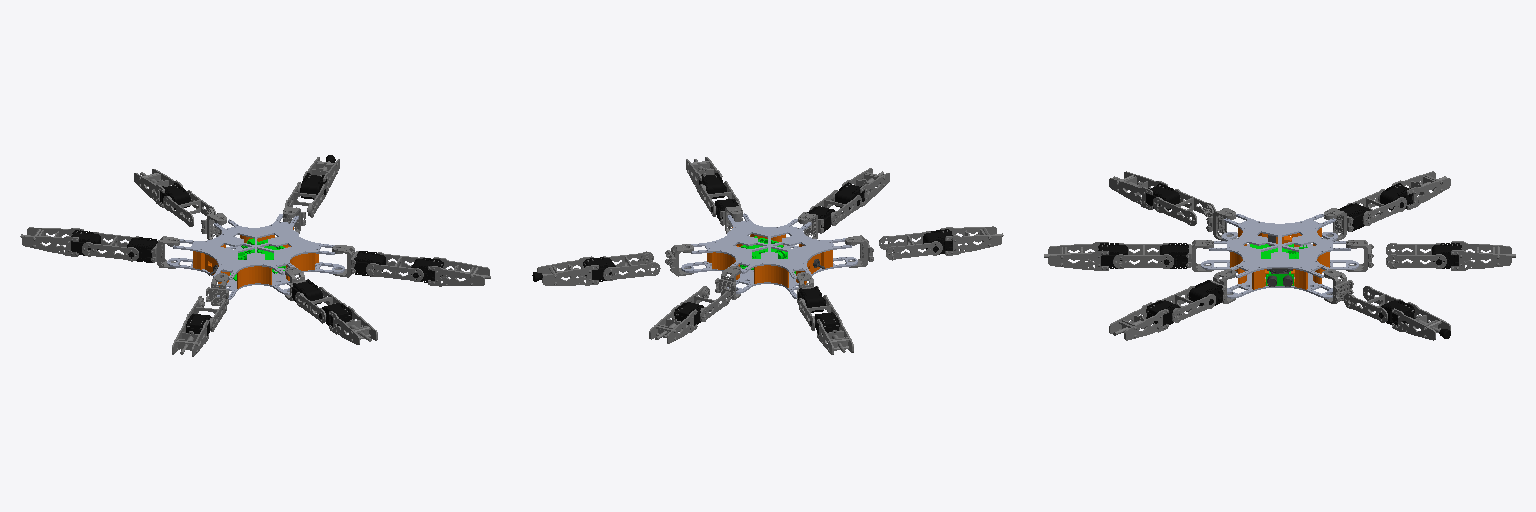
--- What the picture shows (computed from the rendered views, not written in the file) ---
Views: 3 orthographic renders of the robot side by side, from view 1: azimuth 30°, elevation 25°; view 2: azimuth 150°, elevation 25°; view 3: azimuth 270°, elevation 25°.
Robot: bullet — 41 links, 40 joints (18 continuous, 22 fixed); root link base_link; default pose: all joints at 0.
Visible links, largest first — view 1: base_link, plug_link, leg_1_absorber_link, leg_4_absorber_link, leg_1_arm_link, leg_4_arm_link, leg_2_absorber_link, leg_5_absorber_link, leg_5_arm_link, leg_3_absorber_link, leg_2_arm_link, leg_6_arm_link (+2 smaller); view 2: base_link, plug_link, leg_6_absorber_link, leg_3_absorber_link, leg_3_arm_link, leg_6_arm_link, leg_5_absorber_link, leg_2_absorber_link, leg_4_absorber_link, leg_5_arm_link, leg_2_arm_link, leg_1_absorber_link (+1 smaller); view 3: base_link, leg_5_absorber_link, leg_2_absorber_link, plug_link, leg_1_absorber_link, leg_5_arm_link, leg_6_absorber_link, leg_2_arm_link, leg_3_arm_link, leg_4_absorber_link, leg_3_absorber_link, leg_6_arm_link (+7 smaller).
Link boxes in pixels (x1,y1,x2,y2): base_link: (167, 214, 344, 299); plug_link: (193, 227, 318, 288); leg_1_absorber_link: (428, 257, 490, 286); leg_4_absorber_link: (20, 227, 83, 256); leg_1_arm_link: (366, 252, 425, 281); leg_4_arm_link: (82, 232, 138, 261); leg_2_absorber_link: (329, 306, 377, 344); leg_5_absorber_link: (134, 169, 182, 207); leg_5_arm_link: (163, 190, 215, 226); leg_3_absorber_link: (172, 318, 208, 356); leg_2_arm_link: (295, 287, 346, 323); leg_6_arm_link: (285, 182, 326, 217); base_link: (681, 213, 857, 298); plug_link: (707, 227, 832, 287); leg_6_absorber_link: (537, 256, 598, 285); leg_3_absorber_link: (940, 226, 1003, 255); leg_3_arm_link: (879, 231, 942, 260); leg_6_arm_link: (601, 251, 660, 280); leg_5_absorber_link: (649, 305, 697, 343); leg_2_absorber_link: (842, 168, 889, 206); leg_4_absorber_link: (817, 317, 853, 354); leg_5_arm_link: (679, 286, 730, 321); leg_2_arm_link: (809, 190, 861, 225); leg_1_absorber_link: (686, 157, 722, 194); base_link: (1201, 214, 1358, 298); leg_5_absorber_link: (1451, 241, 1515, 270); leg_2_absorber_link: (1044, 242, 1108, 270); plug_link: (1230, 228, 1329, 289); leg_1_absorber_link: (1109, 302, 1168, 340); leg_5_arm_link: (1386, 243, 1446, 268); leg_6_absorber_link: (1392, 302, 1450, 340); leg_2_arm_link: (1113, 243, 1173, 268); leg_3_arm_link: (1153, 189, 1215, 225); leg_4_absorber_link: (1392, 171, 1450, 209); leg_3_absorber_link: (1109, 171, 1167, 209); leg_6_arm_link: (1344, 286, 1403, 322).
Bounding box of the posed robot: 0.6257 × 0.7744 × 0.0501 m (x, y, z).
Meshes: 41 distinct files referenced, 32 mesh visuals loaded (32 binary STL); not drawn: 9 (reference not matched to a file when rendering).

robot.urdf — bullet:
<?xml version="1.0" ?>
<robot
  name="bullet">
  <!-- ros_control plugin -->
  <gazebo>
    <plugin name="gazebo_ros_control" filename="libgazebo_ros_control.so">
      <robotNamespace>/bullet</robotNamespace>
      <robotSimType>gazebo_ros_control/DefaultRobotHWSim</robotSimType>
    </plugin>
  </gazebo>


  <link
    name="base_link">
    <inertial>
      <origin
        xyz="-5.9635796939439E-05 3.74625273918532E-05 0.0220737857529309"
        rpy="0 0 0" />
      <mass
        value="0.26667112057784" />
      <inertia
        ixx="0.000748339276654686"
        ixy="8.68074449070377E-08"
        ixz="-1.81712739650435E-07"
        iyy="0.000981744929643055"
        iyz="1.14149870318711E-07"
        izz="0.00158602359934563" />
    </inertial>
    <visual>
      <origin
        xyz="0 0 0"
        rpy="0 0 0" />
      <geometry>
        <mesh
          filename="package://bullet_description/meshes/base_link.STL" />
      </geometry>
      <material
        name="">
        <color
          rgba="0.666666666666667 0.694117647058824 0.764705882352941 1" />
      </material>
    </visual>
    <collision>
      <origin
        xyz="0 0 0.015"
        rpy="0 0 0" />
      <geometry>
        <box size="0.25 0.2 0.04"/>
      </geometry>
    </collision>
  </link>


  <link
    name="plug_link">
    <inertial>
      <origin
        xyz="-0.0056089 0.0011051 0.016059"
        rpy="0 0 0" />
      <mass
        value="0.11991" />
      <inertia
        ixx="0.00028126"
        ixy="-9.098E-06"
        ixz="4.5305E-07"
        iyy="0.00058035"
        iyz="-5.2933E-09"
        izz="0.00084063" />
    </inertial>
    <visual>
      <origin
        xyz="0 0 0"
        rpy="0 0 0" />
      <geometry>
        <mesh
          filename="package://bullet_description/meshes/plug_link.STL" />
      </geometry>
      <material
        name="">
        <color
          rgba="0.9098 0.44314 0.031373 1" />
      </material>
    </visual>
   <!-- <collision>
      <origin
        xyz="0 0 0"
        rpy="0 0 0" />
      <geometry>
        <mesh
          filename="package://bullet_description/meshes/plug_link.STL" />
      </geometry>
    </collision> -->
  </link>
  <joint
    name="plug_joint"
    type="fixed">
    <origin
      xyz="0 0 0"
      rpy="8.79440476813292E-33 0 0" />
    <parent
      link="base_link" />
    <child
      link="plug_link" />
    <axis
      xyz="0 0 0" />
  </joint>


  <link
    name="servo_link">
    <inertial>
      <origin
        xyz="-8.8541E-05 5.5621E-05 0.016229"
        rpy="0 0 0" />
      <mass
        value="0.25106" />
      <inertia
        ixx="0.0019045"
        ixy="-1.2566E-07"
        ixz="-9.6563E-20"
        iyy="0.0018893"
        iyz="-2.2515E-19"
        izz="0.0037433" />
    </inertial>
    <visual>
      <origin
        xyz="0 0 0"
        rpy="0 0 0" />
      <geometry>
        <mesh
          filename="package://bullet_description/meshes/servo_link.STL" />
      </geometry>
      <material
        name="">
        <color
          rgba="0.1 0.1 0.1 1" />
      </material>
    </visual>
  <!--  <collision>
      <origin
        xyz="0 0 0"
        rpy="0 0 0" />
      <geometry>
        <mesh
          filename="package://bullet_description/meshes/servo_link.STL" />
      </geometry>
    </collision> -->
  </link>
  <joint
    name="servo_joint"
    type="fixed">
    <origin
      xyz="0 0 0"
      rpy="8.79440476813292E-33 0 0" />
    <parent
      link="base_link" />
    <child
      link="servo_link" />
    <axis
      xyz="0 0 0" />
  </joint>


  <link
    name="sensors_link">
    <inertial>
      <origin
        xyz="0.006324 -0.0066315 0.01585"
        rpy="0 0 0" />
      <mass
        value="0.014514" />
      <inertia
        ixx="2.5098E-06"
        ixy="7.4366E-06"
        ixz="-3.393E-07"
        iyy="9.2124E-05"
        iyz="-2.2603E-08"
        izz="9.3173E-05" />
    </inertial>
    <visual>
      <origin
        xyz="0 0 0"
        rpy="0 0 0" />
      <geometry>
        <mesh
          filename="package://bullet_description/meshes/sensors_link.STL" />
      </geometry>
      <material
        name="">
        <color
          rgba="0.3 0.3 0.3 1" />
      </material>
    </visual>
  <!--  <collision>
      <origin
        xyz="0 0 0"
        rpy="0 0 0" />
      <geometry>
        <mesh
          filename="package://bullet_description/meshes/sensors_link.STL" />
      </geometry>
    </collision> -->
  </link>
  <joint
    name="sensors_joint"
    type="fixed">
    <origin
      xyz="0 0 0"
      rpy="8.79440476813292E-33 0 0" />
    <parent
      link="base_link" />
    <child
      link="sensors_link" />
    <axis
      xyz="0 0 0" />
  </joint>


  <link
    name="electronics_link">
    <inertial>
      <origin
        xyz="0.0074569 0.0020461 0.011058"
        rpy="0 0 0" />
      <mass
        value="0.040161" />
      <inertia
        ixx="2.9231E-05"
        ixy="4.1419E-06"
        ixz="2.2885E-06"
        iyy="4.4184E-05"
        iyz="3.6188E-07"
        izz="7.04E-05" />
    </inertial>
    <visual>
      <origin
        xyz="0 0 0"
        rpy="0 0 0" />
      <geometry>
        <mesh
          filename="package://bullet_description/meshes/electronics_link.STL" />
      </geometry>
      <material
        name="">
        <color
          rgba="0 0.9 0.1 1" />
      </material>
    </visual>
  <!--  <collision>
      <origin
        xyz="0 0 0"
        rpy="0 0 0" />
      <geometry>
        <mesh
          filename="package://bullet_description/meshes/electronics_link.STL" />
      </geometry>
    </collision> -->
  </link>
  <joint
    name="electronics_joint"
    type="fixed">
    <origin
      xyz="0 0 0"
      rpy="8.79440476813292E-33 0 0" />
    <parent
      link="base_link" />
    <child
      link="electronics_link" />
    <axis
      xyz="0 0 0" />
  </joint>


  <link
    name="leg_1_forearm_link">
    <inertial>
      <origin
        xyz="0.017276 1.0146E-06 0.0012814"
        rpy="0 0 0" />
      <mass
        value="0.011999" />
      <inertia
        ixx="4.0634E-06"
        ixy="4.659E-11"
        ixz="-4.4795E-07"
        iyy="4.7997E-06"
        iyz="2.0807E-11"
        izz="2.6852E-06" />
    </inertial>
    <visual>
      <origin
        xyz="0 0 0"
        rpy="0 0 0" />
      <geometry>
        <mesh
          filename="package://bullet_description/meshes/leg_1_forearm_link.STL" />
      </geometry>
      <material
        name="">
        <color
          rgba="0.5 0.5 0.5 1" />
      </material>
    </visual>
  <!--  <collision>
      <origin
        xyz="0 0 0"
        rpy="0 0 0" />
      <geometry>
        <mesh
          filename="package://bullet_description/meshes/leg_1_forearm_link.STL" />
      </geometry>
    </collision> -->
  </link>
  <joint
    name="leg_1_forearm_joint"
    type="continuous">
    <origin
      xyz="0.113952162823079 -0.0826430598623217 0.016"
      rpy="4.33217549907182E-16 3.4834412824402E-16 -0.785398163397447" />
    <parent
      link="base_link" />
    <child
      link="leg_1_forearm_link" />
    <axis
      xyz="0 0 1" />
  </joint>


  <link
    name="leg_1_forearm_servo_link">
    <inertial>
      <origin
        xyz="0.054433 -0.00020847 -0.00073174"
        rpy="0 0 0" />
      <mass
        value="0.041774" />
      <inertia
        ixx="6.5748E-06"
        ixy="3.0387E-07"
        ixz="-9.9107E-09"
        iyy="1.0186E-05"
        iyz="-4.4578E-09"
        izz="1.1951E-05" />
    </inertial>
    <visual>
      <origin
        xyz="0 0 0"
        rpy="0 0 0" />
      <geometry>
        <mesh
          filename="package://bullet_description/meshes/leg_1_forearm_servo_link.STL" />
      </geometry>
      <material
        name="">
        <color
          rgba="0.1 0.1 0.1 1" />
      </material>
    </visual>
    <collision>
      <origin
        xyz="0.05 0 0"
        rpy="0 0 0" />
      <geometry>
        <box size="0.05 0.035 0.032"/>
      </geometry>
    </collision>
  </link>
  <joint
    name="leg_1_forearm_servo_joint"
    type="fixed">
    <origin
      xyz="0 0 0"
      rpy="2.46519032881566E-32 4.93038065763132E-32 0" />
    <parent
      link="leg_1_forearm_link" />
    <child
      link="leg_1_forearm_servo_link" />
    <axis
      xyz="0 0 0" />
  </joint>


  <link
    name="leg_1_arm_link">
    <inertial>
      <origin
        xyz="0.0375 7.4367E-10 -0.00020126"
        rpy="0 0 0" />
      <mass
        value="0.034236" />
      <inertia
        ixx="1.7379E-05"
        ixy="3.5358E-08"
        ixz="-1.8477E-06"
        iyy="4.4351E-05"
        iyz="-7.3181E-16"
        izz="3.0276E-05" />
    </inertial>
    <visual>
      <origin
        xyz="0 0 0"
        rpy="0 0 0" />
      <geometry>
        <mesh
          filename="package://bullet_description/meshes/leg_1_arm_link.STL" />
      </geometry>
      <material
        name="">
        <color
          rgba="0.5 0.5 0.5 1" />
      </material>
    </visual>
    <collision>
      <origin
        xyz="0.038 0 0"
        rpy="0 0 0" />
      <geometry>
        <box size="0.1 0.025 0.048"/>
      </geometry>
    </collision>
  </link>
  <joint
    name="leg_1_arm_joint"
    type="continuous">
    <origin
      xyz="0.0675 0 -0.00076"
      rpy="1.5708 -5.7268E-14 -2.387E-15" />
    <parent
      link="leg_1_forearm_link" />
    <child
      link="leg_1_arm_link" />
    <axis
      xyz="0 0 1" />
  </joint>


  <link
    name="leg_1_foot_link">
    <inertial>
      <origin
        xyz="0.013072 2.8454E-05 -0.00020951"
        rpy="0 0 0" />
      <mass
        value="0.041484" />
      <inertia
        ixx="6.5186E-06"
        ixy="9.9042E-09"
        ixz="-3.0384E-07"
        iyy="1.1799E-05"
        iyz="-4.4564E-09"
        izz="1.0031E-05" />
    </inertial>
    <visual>
      <origin
        xyz="0 0 0"
        rpy="0 0 0" />
      <geometry>
        <mesh
          filename="package://bullet_description/meshes/leg_1_foot_link.STL" />
      </geometry>
      <material
        name="">
        <color
          rgba="0.1 0.1 0.1 1" />
      </material>
    </visual>
    <collision>
      <origin
        xyz="0.015 0 0"
        rpy="0 0 0" />
      <geometry>
        <box size="0.05 0.035 0.032"/>
      </geometry>
    </collision>
  </link>
  <joint
    name="leg_1_foot_joint"
    type="continuous">
    <origin
      xyz="0.075 0 -0.000460000000000273"
      rpy="1.04658473403549E-16 4.32986979603811E-15 -4.69087896824192E-14" />
    <parent
      link="leg_1_arm_link" />
    <child
      link="leg_1_foot_link" />
    <axis
      xyz="0 0 1" />
  </joint>


  <link
    name="leg_1_absorber_link">
    <inertial>
      <origin
        xyz="0.073062 -0.00037049 -6.9437E-11"
        rpy="0 0 0" />
      <mass
        value="0.021547" />
      <inertia
        ixx="6.0227E-06"
        ixy="1.2924E-07"
        ixz="-1.4958E-14"
        iyy="1.8916E-05"
        iyz="6.0444E-11"
        izz="1.5561E-05" />
    </inertial>
    <visual>
      <origin
        xyz="0 0 0"
        rpy="0 0 0" />
      <geometry>
        <mesh
          filename="package://bullet_description/meshes/leg_1_absorber_link.STL" />
      </geometry>
      <material
        name="">
        <color
          rgba="0.5 0.5 0.5 1" />
      </material>
    </visual>
    <collision>
      <origin
        xyz="0.068 0 0"
        rpy="0 0 0" />
      <geometry>
        <box size="0.1 0.028 0.04"/>
      </geometry>
    </collision>
  </link>
  <joint
    name="leg_1_absorber_joint"
    type="fixed">
    <origin
      xyz="0 0 0"
      rpy="0 0 0" />
    <parent
      link="leg_1_foot_link" />
    <child
      link="leg_1_absorber_link" />
    <axis
      xyz="0 0 0" />
  </joint>


  <link
    name="leg_1_antislipper_link">
    <inertial>
      <origin
        xyz="0.12452 -2.4251E-15 3.3307E-16"
        rpy="0 0 0" />
      <mass
        value="0.0022964" />
      <inertia
        ixx="6.8197E-08"
        ixy="-5.5437E-23"
        ixz="-3.3087E-24"
        iyy="7.2351E-08"
        iyz="7.8257E-24"
        izz="7.2351E-08" />
    </inertial>
    <visual>
      <origin
        xyz="0 0 0"
        rpy="0 0 0" />
      <geometry>
        <mesh
          filename="package://bullet_description/meshes/leg_1_antislipper_link.STL" />
      </geometry>
      <material
        name="">
        <color
          rgba="0.1 0.1 0.1 1" />
      </material>
    </visual>
    <collision>
      <origin
        xyz="0.123 0 0"
        rpy="0 1.57 0" />
      <geometry>
        <cylinder length="0.015" radius="0.008"/>
      </geometry>
    </collision>
  </link>
  <joint
    name="leg_1_antislipper_joint"
    type="fixed">
    <origin
      xyz="0 0 0"
      rpy="0 0 0" />
    <parent
      link="leg_1_foot_link" />
    <child
      link="leg_1_antislipper_link" />
    <axis
      xyz="0 0 0" />
  </joint>


  <link
    name="leg_2_forearm_link">
    <inertial>
      <origin
        xyz="0.017171 1.3884E-06 0.0013578"
        rpy="0 0 0" />
      <mass
        value="0.011927" />
      <inertia
        ixx="4.0451E-06"
        ixy="1.2401E-10"
        ixz="-4.3216E-07"
        iyy="4.7665E-06"
        iyz="-3.5458E-11"
        izz="2.6567E-06" />
    </inertial>
    <visual>
      <origin
        xyz="0 0 0"
        rpy="0 0 0" />
      <geometry>
        <mesh
          filename="package://bullet_description/meshes/leg_2_forearm_link.STL" />
      </geometry>
      <material
        name="">
        <color
          rgba="0.5 0.5 0.5 1" />
      </material>
    </visual>
  <!--  <collision>
      <origin
        xyz="0 0 0"
        rpy="0 0 0" />
      <geometry>
        <mesh
          filename="package://bullet_description/meshes/leg_2_forearm_link.STL" />
      </geometry>
    </collision> -->
  </link>
  <joint
    name="leg_2_forearm_joint"
    type="continuous">
    <origin
      xyz="-8.8541E-05 -0.11896 0.016"
      rpy="5.2062E-16 2.91E-16 -1.5708" />
    <parent
      link="base_link" />
    <child
      link="leg_2_forearm_link" />
    <axis
      xyz="0 0 1" />
  </joint>


  <link
    name="leg_2_forearm_servo_link">
    <inertial>
      <origin
        xyz="0.054455 -0.00023549 -0.00073179"
        rpy="0 0 0" />
      <mass
        value="0.041843" />
      <inertia
        ixx="6.594E-06"
        ixy="2.8912E-07"
        ixz="-9.9361E-09"
        iyy="1.0198E-05"
        iyz="-4.4259E-09"
        izz="1.1982E-05" />
    </inertial>
    <visual>
      <origin
        xyz="0 0 0"
        rpy="0 0 0" />
      <geometry>
        <mesh
          filename="package://bullet_description/meshes/leg_2_forearm_servo_link.STL" />
      </geometry>
      <material
        name="">
        <color
          rgba="0.1 0.1 0.1 1" />
      </material>
    </visual>
    <collision>
      <origin
        xyz="0.05 0 0"
        rpy="0 0 0" />
      <geometry>
        <box size="0.05 0.035 0.032"/>
      </geometry>
    </collision>
  </link>
  <joint
    name="leg_2_forearm_servo_joint"
    type="fixed">
    <origin
      xyz="0 0 0"
      rpy="0 6.39231880465656E-33 0" />
    <parent
      link="leg_2_forearm_link" />
    <child
      link="leg_2_forearm_servo_link" />
    <axis
      xyz="0 0 0" />
  </joint>


  <link
    name="leg_2_arm_link">
    <inertial>
      <origin
        xyz="0.0375 5.2255E-10 -0.00020126"
        rpy="0 0 0" />
      <mass
        value="0.034236" />
      <inertia
        ixx="1.7379E-05"
        ixy="3.5358E-08"
        ixz="-1.8477E-06"
        iyy="4.4351E-05"
        iyz="-5.1421E-16"
        izz="3.0276E-05" />
    </inertial>
    <visual>
      <origin
        xyz="0 0 0"
        rpy="0 0 0" />
      <geometry>
        <mesh
          filename="package://bullet_description/meshes/leg_2_arm_link.STL" />
      </geometry>
      <material
        name="">
        <color
          rgba="0.5 0.5 0.5 1" />
      </material>
    </visual>
    <collision>
      <origin
        xyz="0.038 0 0"
        rpy="0 0 0" />
      <geometry>
        <box size="0.1 0.025 0.048"/>
      </geometry>
    </collision>
  </link>
  <joint
    name="leg_2_arm_joint"
    type="continuous">
    <origin
      xyz="0.0675000000000001 0 -0.000760000000000038"
      rpy="1.5707963267949 -5.7261880114394E-14 -2.44249065417533E-15" />
    <parent
      link="leg_2_forearm_link" />
    <child
      link="leg_2_arm_link" />
    <axis
      xyz="0 0 1" />
  </joint>


  <link
    name="leg_2_foot_link">
    <inertial>
      <origin
        xyz="0.012997 2.8355E-05 -0.00020899"
        rpy="0 0 0" />
      <mass
        value="0.041629" />
      <inertia
        ixx="6.5453E-06"
        ixy="9.9928E-09"
        ixz="-3.043E-07"
        iyy="1.188E-05"
        iyz="-4.4572E-09"
        izz="1.0112E-05" />
    </inertial>
    <visual>
      <origin
        xyz="0 0 0"
        rpy="0 0 0" />
      <geometry>
        <mesh
          filename="package://bullet_description/meshes/leg_2_foot_link.STL" />
      </geometry>
      <material
        name="">
        <color
          rgba="0.1 0.1 0.1 1" />
      </material>
    </visual>
    <collision>
      <origin
        xyz="0.015 0 0"
        rpy="0 0 0" />
      <geometry>
        <box size="0.05 0.035 0.032"/>
      </geometry>
    </collision>
  </link>
  <joint
    name="leg_2_foot_joint"
    type="continuous">
    <origin
      xyz="0.075 0 -0.000460000000000291"
      rpy="-4.04901985956172E-16 4.49640324973188E-15 -4.68060191060397E-14" />
    <parent
      link="leg_2_arm_link" />
    <child
      link="leg_2_foot_link" />
    <axis
      xyz="0 0 1" />
  </joint>


  <link
    name="leg_2_absorber_link">
    <inertial>
      <origin
        xyz="0.073032 -0.00037142 -7.0825E-11"
        rpy="0 0 0" />
      <mass
        value="0.021493" />
      <inertia
        ixx="6.0216E-06"
        ixy="1.29E-07"
        ixz="-1.4999E-14"
        iyy="1.8907E-05"
        iyz="2.0114E-10"
        izz="1.5553E-05" />
    </inertial>
    <visual>
      <origin
        xyz="0 0 0"
        rpy="0 0 0" />
      <geometry>
        <mesh
          filename="package://bullet_description/meshes/leg_2_absorber_link.STL" />
      </geometry>
      <material
        name="">
        <color
          rgba="0.5 0.5 0.5 1" />
      </material>
    </visual>
    <collision>
      <origin
        xyz="0.068 0 0"
        rpy="0 0 0" />
      <geometry>
        <box size="0.1 0.028 0.04"/>
      </geometry>
    </collision>
  </link>
  <joint
    name="leg_2_absorber_joint"
    type="fixed">
    <origin
      xyz="0 0 0"
      rpy="0 0 -3.41510164748246E-31" />
    <parent
      link="leg_2_foot_link" />
    <child
      link="leg_2_absorber_link" />
    <axis
      xyz="0 0 0" />
  </joint>


  <link
    name="leg_2_antislipper_link">
    <inertial>
      <origin
        xyz="0.12452 -2.4425E-15 3.9942E-16"
        rpy="0 0 0" />
      <mass
        value="0.0022964" />
      <inertia
        ixx="6.8197E-08"
        ixy="-5.9055E-23"
        ixz="6.6702E-24"
        iyy="7.2351E-08"
        iyz="-1.0508E-24"
        izz="7.2351E-08" />
    </inertial>
    <visual>
      <origin
        xyz="0 0 0"
        rpy="0 0 0" />
      <geometry>
        <mesh
          filename="package://bullet_description/meshes/leg_2_antislipper_link.STL" />
      </geometry>
      <material
        name="">
        <color
          rgba="0.1 0.1 0.1 1" />
      </material>
    </visual>
    <collision>
      <origin
        xyz="0.123 0 0"
        rpy="0 1.57 0" />
      <geometry>
        <cylinder length="0.015" radius="0.008"/>
      </geometry>
    </collision>
  </link>
  <joint
    name="leg_2_antislipper_joint"
    type="fixed">
    <origin
      xyz="0 0 0"
      rpy="0 0 -3.41510164748246E-31" />
    <parent
      link="leg_2_foot_link" />
    <child
      link="leg_2_antislipper_link" />
    <axis
      xyz="0 0 0" />
  </joint>


  <link
    name="leg_3_foream_link">
    <inertial>
      <origin
        xyz="0.017171 1.3885E-06 0.0013578"
        rpy="0 0 0" />
      <mass
        value="0.011927" />
      <inertia
        ixx="4.0451E-06"
        ixy="1.2392E-10"
        ixz="-4.3216E-07"
        iyy="4.7665E-06"
        iyz="-3.5461E-11"
        izz="2.6567E-06" />
    </inertial>
    <visual>
      <origin
        xyz="0 0 0"
        rpy="0 0 0" />
      <geometry>
        <mesh
          filename="package://bullet_description/meshes/leg_3_foream_link.STL" />
      </geometry>
      <material
        name="">
        <color
          rgba="0.5 0.5 0.5 1" />
      </material>
    </visual>
 <!--   <collision>
      <origin
        xyz="0 0 0"
        rpy="0 0 0" />
      <geometry>
        <mesh
          filename="package://bullet_description/meshes/leg_3_foream_link.STL" />
      </geometry>
    </collision> -->
  </link>
  <joint
    name="leg_3_forearm_joint"
    type="continuous">
    <origin
      xyz="-0.114129245372036 -0.0826430598623203 0.016"
      rpy="6.31058804761167E-16 3.35999507505419E-16 -2.35619449019236" />
    <parent
      link="base_link" />
    <child
      link="leg_3_foream_link" />
    <axis
      xyz="0 0 1" />
  </joint>


  <link
    name="leg_3_forearm_servo_link">
    <inertial>
      <origin
        xyz="0.054455 -0.00023549 -0.00073179"
        rpy="0 0 0" />
      <mass
        value="0.041843" />
      <inertia
        ixx="6.594E-06"
        ixy="2.8912E-07"
        ixz="-9.9361E-09"
        iyy="1.0198E-05"
        iyz="-4.4259E-09"
        izz="1.1982E-05" />
    </inertial>
    <visual>
      <origin
        xyz="0 0 0"
        rpy="0 0 0" />
      <geometry>
        <mesh
          filename="package://bullet_description/meshes/leg_3_forearm_servo_link.STL" />
      </geometry>
      <material
        name="">
        <color
          rgba="0.1 0.1 0.1 1" />
      </material>
    </visual>
    <collision>
      <origin
        xyz="0.05 0 0"
        rpy="0 0 0" />
      <geometry>
        <box size="0.05 0.035 0.032"/>
      </geometry>
    </collision>
  </link>
  <joint
    name="leg_3_forearm_servo_joint"
    type="fixed">
    <origin
      xyz="0 0 0"
      rpy="0 0 0" />
    <parent
      link="leg_3_foream_link" />
    <child
      link="leg_3_forearm_servo_link" />
    <axis
      xyz="0 0 0" />
  </joint>


  <link
    name="leg_3_arm_link">
    <inertial>
      <origin
        xyz="0.0375 7.4367E-10 -0.00020126"
        rpy="0 0 0" />
      <mass
        value="0.034236" />
      <inertia
        ixx="1.7379E-05"
        ixy="3.5358E-08"
        ixz="-1.8477E-06"
        iyy="4.4351E-05"
        iyz="-7.3181E-16"
        izz="3.0276E-05" />
    </inertial>
    <visual>
      <origin
        xyz="0 0 0"
        rpy="0 0 0" />
      <geometry>
        <mesh
          filename="package://bullet_description/meshes/leg_3_arm_link.STL" />
      </geometry>
      <material
        name="">
        <color
          rgba="0.5 0.5 0.5 1" />
      </material>
    </visual>
    <collision>
      <origin
        xyz="0.038 0 0"
        rpy="0 0 0" />
      <geometry>
        <box size="0.1 0.025 0.048"/>
      </geometry>
    </collision>
  </link>
  <joint
    name="leg_3_arm_joint"
    type="continuous">
    <origin
      xyz="0.0675000000000001 0 -0.000760000000000052"
      rpy="1.5707963267949 -5.73537572186178E-14 -2.38697950294409E-15" />
    <parent
      link="leg_3_foream_link" />
    <child
      link="leg_3_arm_link" />
    <axis
      xyz="0 0 1" />
  </joint>


  <link
    name="leg_3_foot_link">
    <inertial>
      <origin
        xyz="0.012976 2.8308E-05 -0.0002361"
        rpy="0 0 0" />
      <mass
        value="0.041698" />
      <inertia
        ixx="6.5644E-06"
        ixy="1.0018E-08"
        ixz="-2.8963E-07"
        iyy="1.191E-05"
        iyz="-4.4252E-09"
        izz="1.0124E-05" />
    </inertial>
    <visual>
      <origin
        xyz="0 0 0"
        rpy="0 0 0" />
      <geometry>
        <mesh
          filename="package://bullet_description/meshes/leg_3_foot_link.STL" />
      </geometry>
      <material
        name="">
        <color
          rgba="0.1 0.1 0.1 1" />
      </material>
    </visual>
    <collision>
      <origin
        xyz="0.015 0 0"
        rpy="0 0 0" />
      <geometry>
        <box size="0.05 0.035 0.032"/>
      </geometry>
    </collision>
  </link>
  <joint
    name="leg_3_foot_joint"
    type="continuous">
    <origin
      xyz="0.075 0 -0.000460000000000238"
      rpy="-2.45564581186595E-16 4.21884749357559E-15 -4.69087896824192E-14" />
    <parent
      link="leg_3_arm_link" />
    <child
      link="leg_3_foot_link" />
    <axis
      xyz="0 0 1" />
  </joint>


  <link
    name="leg_3_absorber_link">
    <inertial>
      <origin
        xyz="0.072329 -0.0001788 -7.1634E-11"
        rpy="0 0 0" />
      <mass
        value="0.020886" />
      <inertia
        ixx="5.946E-06"
        ixy="2.2905E-07"
        ixz="-1.6054E-14"
        iyy="1.8494E-05"
        iyz="2.0114E-10"
        izz="1.5159E-05" />
    </inertial>
    <visual>
      <origin
        xyz="0 0 0"
        rpy="0 0 0" />
      <geometry>
        <mesh
          filename="package://bullet_description/meshes/leg_3_absorber_link.STL" />
      </geometry>
      <material
        name="">
        <color
          rgba="0.5 0.5 0.5 1" />
      </material>
    </visual>
    <collision>
      <origin
        xyz="0.068 0 0"
        rpy="0 0 0" />
      <geometry>
        <box size="0.1 0.028 0.04"/>
      </geometry>
    </collision>
  </link>
  <joint
    name="leg_3_absorber_joint"
    type="fixed">
    <origin
      xyz="0 0 0"
      rpy="0 0 0" />
    <parent
      link="leg_3_foot_link" />
    <child
      link="leg_3_absorber_link" />
    <axis
      xyz="0 0 0" />
  </joint>


  <link
    name="leg_3_antislipper_link">
    <inertial>
      <origin
        xyz="0.12452 -2.4494E-15 4.1633E-16"
        rpy="0 0 0" />
      <mass
        value="0.0022964" />
      <inertia
        ixx="6.8197E-08"
        ixy="-5.1903E-23"
        ixz="4.3013E-23"
        iyy="7.2351E-08"
        iyz="3.8243E-24"
        izz="7.2351E-08" />
    </inertial>
    <visual>
      <origin
        xyz="0 0 0"
        rpy="0 0 0" />
      <geometry>
        <mesh
          filename="package://bullet_description/meshes/leg_3_antislipper_link.STL" />
      </geometry>
      <material
        name="">
        <color
          rgba="0.1 0.1 0.1 1" />
      </material>
    </visual>
    <collision>
      <origin
        xyz="0.123 0 0"
        rpy="0 1.57 0" />
      <geometry>
        <cylinder length="0.015" radius="0.008"/>
      </geometry>
    </collision>
  </link>
  <joint
    name="leg_3_antislipper_joint"
    type="fixed">
    <origin
      xyz="0 0 0"
      rpy="0 0 0" />
    <parent
      link="leg_3_foot_link" />
    <child
      link="leg_3_antislipper_link" />
    <axis
      xyz="0 0 0" />
  </joint>


  <link
    name="leg_4_forearm_link">
    <inertial>
      <origin
        xyz="0.017171 1.3885E-06 0.0013578"
        rpy="0 0 0" />
      <mass
        value="0.011927" />
      <inertia
        ixx="4.0451E-06"
        ixy="1.2392E-10"
        ixz="-4.3216E-07"
        iyy="4.7665E-06"
        iyz="-3.5461E-11"
        izz="2.6567E-06" />
    </inertial>
    <visual>
      <origin
        xyz="0 0 0"
        rpy="0 0 0" />
      <geometry>
        <mesh
          filename="package://bullet_description/meshes/leg_4_forearm_link.STL" />
      </geometry>
      <material
        name="">
        <color
          rgba="0.5 0.5 0.5 1" />
      </material>
    </visual>
 <!--   <collision>
      <origin
        xyz="0 0 0"
        rpy="0 0 0" />
      <geometry>
        <mesh
          filename="package://bullet_description/meshes/leg_4_forearm_link.STL" />
      </geometry>
    </collision> -->
  </link>
  <joint
    name="leg_4_forearm_joint"
    type="continuous">
    <origin
      xyz="-0.114129245372036 0.082754301092088 0.016"
      rpy="6.22754160210778E-16 5.60637197183085E-16 2.35619449019235" />
    <parent
      link="base_link" />
    <child
      link="leg_4_forearm_link" />
    <axis
      xyz="0 0 1" />
  </joint>


  <link
    name="leg_4_forearm_servo_link">
    <inertial>
      <origin
        xyz="0.05438 -0.0002361 -0.00073169"
        rpy="0 0 0" />
      <mass
        value="0.041698" />
      <inertia
        ixx="6.5673E-06"
        ixy="2.8857E-07"
        ixz="-9.8477E-09"
        iyy="1.0117E-05"
        iyz="-4.425E-09"
        izz="1.1901E-05" />
    </inertial>
    <visual>
      <origin
        xyz="0 0 0"
        rpy="0 0 0" />
      <geometry>
        <mesh
          filename="package://bullet_description/meshes/leg_4_forearm_servo_link.STL" />
      </geometry>
      <material
        name="">
        <color
          rgba="0.1 0.1 0.1 1" />
      </material>
    </visual>
    <collision>
      <origin
        xyz="0.05 0 0"
        rpy="0 0 0" />
      <geometry>
        <box size="0.05 0.035 0.032"/>
      </geometry>
    </collision>
  </link>
  <joint
    name="leg_4_forearm_servo_joint"
    type="fixed">
    <origin
      xyz="0 0 0"
      rpy="4.93038065763132E-32 -4.93038065763132E-32 0" />
    <parent
      link="leg_4_forearm_link" />
    <child
      link="leg_4_forearm_servo_link" />
    <axis
      xyz="0 0 0" />
  </joint>


  <link
    name="leg_4_arm_link">
    <inertial>
      <origin
        xyz="0.0375 7.4367E-10 -0.00020126"
        rpy="0 0 0" />
      <mass
        value="0.034236" />
      <inertia
        ixx="1.7379E-05"
        ixy="3.5358E-08"
        ixz="-1.8477E-06"
        iyy="4.4351E-05"
        iyz="-7.3182E-16"
        izz="3.0276E-05" />
    </inertial>
    <visual>
      <origin
        xyz="0 0 0"
        rpy="0 0 0" />
      <geometry>
        <mesh
          filename="package://bullet_description/meshes/leg_4_arm_link.STL" />
      </geometry>
      <material
        name="">
        <color
          rgba="0.5 0.5 0.5 1" />
      </material>
    </visual>
    <collision>
      <origin
        xyz="0.038 0 0"
        rpy="0 0 0" />
      <geometry>
        <box size="0.1 0.025 0.048"/>
      </geometry>
    </collision>
  </link>
  <joint
    name="leg_4_arm_joint"
    type="continuous">
    <origin
      xyz="0.0675000000000001 0 -0.000760000000000035"
      rpy="1.5707963267949 -5.74087013921479E-14 -2.38697950294409E-15" />
    <parent
      link="leg_4_forearm_link" />
    <child
      link="leg_4_arm_link" />
    <axis
      xyz="0 0 1" />
  </joint>


  <link
    name="leg_4_foot_link">
    <inertial>
      <origin
        xyz="0.013051 2.8407E-05 -0.00023672"
        rpy="0 0 0" />
      <mass
        value="0.041553" />
      <inertia
        ixx="6.5378E-06"
        ixy="9.9298E-09"
        ixz="-2.8908E-07"
        iyy="1.183E-05"
        iyz="-4.4243E-09"
        izz="1.0043E-05" />
    </inertial>
    <visual>
      <origin
        xyz="0 0 0"
        rpy="0 0 0" />
      <geometry>
        <mesh
          filename="package://bullet_description/meshes/leg_4_foot_link.STL" />
      </geometry>
      <material
        name="">
        <color
          rgba="0.1 0.1 0.1 1" />
      </material>
    </visual>
    <collision>
      <origin
        xyz="0.015 0 0"
        rpy="0 0 0" />
      <geometry>
        <box size="0.05 0.035 0.032"/>
      </geometry>
    </collision>
  </link>
  <joint
    name="leg_4_foot_joint"
    type="continuous">
    <origin
      xyz="0.0749999999999999 0 -0.000460000000000283"
      rpy="2.0785252770019E-16 4.32986979603811E-15 -4.69087896824192E-14" />
    <parent
      link="leg_4_arm_link" />
    <child
      link="leg_4_foot_link" />
    <axis
      xyz="0 0 1" />
  </joint>


  <link
    name="leg_4_absorber_link">
    <inertial>
      <origin
        xyz="0.073032 -0.00037142 -6.9611E-11"
        rpy="0 0 0" />
      <mass
        value="0.021493" />
      <inertia
        ixx="6.0216E-06"
        ixy="1.29E-07"
        ixz="-1.5004E-14"
        iyy="1.8907E-05"
        iyz="2.0114E-10"
        izz="1.5553E-05" />
    </inertial>
    <visual>
      <origin
        xyz="0 0 0"
        rpy="0 0 0" />
      <geometry>
        <mesh
          filename="package://bullet_description/meshes/leg_4_absorber_link.STL" />
      </geometry>
      <material
        name="">
        <color
          rgba="0.5 0.5 0.5 1" />
      </material>
    </visual>
    <collision>
      <origin
        xyz="0.068 0 0"
        rpy="0 0 0" />
      <geometry>
        <box size="0.1 0.028 0.04"/>
      </geometry>
    </collision>
  </link>
  <joint
    name="leg_4_absorber_joint"
    type="fixed">
    <origin
      xyz="0 0 0"
      rpy="0 0 -2.36658271566304E-30" />
    <parent
      link="leg_4_foot_link" />
    <child
      link="leg_4_absorber_link" />
    <axis
      xyz="0 0 0" />
  </joint>


  <link
    name="leg_4_antislipper_link">
    <inertial>
      <origin
        xyz="0.12452 -2.4425E-15 4.1633E-16"
        rpy="0 0 0" />
      <mass
        value="0.0022964" />
      <inertia
        ixx="6.8197E-08"
        ixy="-5.4918E-23"
        ixz="-3.3087E-24"
        iyy="7.2351E-08"
        iyz="1.0466E-24"
        izz="7.2351E-08" />
    </inertial>
    <visual>
      <origin
        xyz="0 0 0"
        rpy="0 0 0" />
      <geometry>
        <mesh
          filename="package://bullet_description/meshes/leg_4_antislipper_link.STL" />
      </geometry>
      <material
        name="">
        <color
          rgba="0.1 0.1 0.1 1" />
      </material>
    </visual>
    <collision>
      <origin
        xyz="0.123 0 0"
        rpy="0 1.57 0" />
      <geometry>
        <cylinder length="0.015" radius="0.008" />
      </geometry>
    </collision>
  </link>
  <joint
    name="leg_4_antislipper_joint"
    type="fixed">
    <origin
      xyz="0 0 0"
      rpy="0 0 -2.36658271566304E-30" />
    <parent
      link="leg_4_foot_link" />
    <child
      link="leg_4_antislipper_link" />
    <axis
      xyz="0 0 0" />
  </joint>


  <link
    name="leg_5_forearm_link">
    <inertial>
      <origin
        xyz="0.016572 1.34E-06 0.00053594"
        rpy="0 0 0" />
      <mass
        value="0.012358" />
      <inertia
        ixx="4.2811E-06"
        ixy="1.3393E-10"
        ixz="-2.6385E-07"
        iyy="5.1251E-06"
        iyz="-2.1848E-11"
        izz="2.7851E-06" />
    </inertial>
    <visual>
      <origin
        xyz="0 0 0"
        rpy="0 0 0" />
      <geometry>
        <mesh
          filename="package://bullet_description/meshes/leg_5_forearm_link.STL" />
      </geometry>
      <material
        name="">
        <color
          rgba="0.5 0.5 0.5 1" />
      </material>
    </visual>
 <!--   <collision>
      <origin
        xyz="0 0 0"
        rpy="0 0 0" />
      <geometry>
        <mesh
          filename="package://bullet_description/meshes/leg_5_forearm_link.STL" />
      </geometry>
    </collision> -->
  </link>
  <joint
    name="leg_5_forearm_joint"
    type="continuous">
    <origin
      xyz="-8.85412793472023E-05 0.119068481647729 0.016"
      rpy="5.18913254202836E-16 5.33334841637562E-16 1.5707963267949" />
    <parent
      link="base_link" />
    <child
      link="leg_5_forearm_link" />
    <axis
      xyz="0 0 1" />
  </joint>


  <link
    name="leg_5_forearm_servo_link">
    <inertial>
      <origin
        xyz="0.054455 -0.00023549 -0.00073179"
        rpy="0 0 0" />
      <mass
        value="0.041843" />
      <inertia
        ixx="6.594E-06"
        ixy="2.8912E-07"
        ixz="-9.9361E-09"
        iyy="1.0198E-05"
        iyz="-4.4259E-09"
        izz="1.1982E-05" />
    </inertial>
    <visual>
      <origin
        xyz="0 0 0"
        rpy="0 0 0" />
      <geometry>
        <mesh
          filename="package://bullet_description/meshes/leg_5_forearm_servo_link.STL" />
      </geometry>
      <material
        name="">
        <color
          rgba="0.1 0.1 0.1 1" />
      </material>
    </visual>
    <collision>
      <origin
        xyz="0.05 0 0"
        rpy="0 0 0" />
      <geometry>
        <box size="0.05 0.035 0.032"/>
      </geometry>
    </collision>
  </link>
  <joint
    name="leg_5_forearm_servo_joint"
    type="fixed">
    <origin
      xyz="0 0 0"
      rpy="0 -3.06764180530034E-33 0" />
    <parent
      link="leg_5_forearm_link" />
    <child
      link="leg_5_forearm_servo_link" />
    <axis
      xyz="0 0 0" />
  </joint>


  <link
    name="leg_5_arm_link">
    <inertial>
      <origin
        xyz="0.0375 5.2255E-10 -0.00020126"
        rpy="0 0 0" />
      <mass
        value="0.034236" />
      <inertia
        ixx="1.7379E-05"
        ixy="3.5358E-08"
        ixz="-1.8477E-06"
        iyy="4.4351E-05"
        iyz="-5.1432E-16"
        izz="3.0276E-05" />
    </inertial>
    <visual>
      <origin
        xyz="0 0 0"
        rpy="0 0 0" />
      <geometry>
        <mesh
          filename="package://bullet_description/meshes/leg_5_arm_link.STL" />
      </geometry>
      <material
        name="">
        <color
          rgba="0.5 0.5 0.5 1" />
      </material>
    </visual>
    <collision>
      <origin
        xyz="0.038 0 0"
        rpy="0 0 0" />
      <geometry>
        <box size="0.1 0.025 0.048"/>
      </geometry>
    </collision>
  </link>
  <joint
    name="leg_5_arm_joint"
    type="continuous">
    <origin
      xyz="0.0675000000000001 0 -0.000760000000000038"
      rpy="1.5707963267949 -4.14448842751674E-16 -9.99200722162641E-16" />
    <parent
      link="leg_5_forearm_link" />
    <child
      link="leg_5_arm_link" />
    <axis
      xyz="0 0 1" />
  </joint>


  <link
    name="leg_5_foot_link">
    <inertial>
      <origin
        xyz="0.012976 2.8308E-05 -0.0002361"
        rpy="0 0 0" />
      <mass
        value="0.041698" />
      <inertia
        ixx="6.5644E-06"
        ixy="1.0018E-08"
        ixz="-2.8963E-07"
        iyy="1.191E-05"
        iyz="-4.4252E-09"
        izz="1.0124E-05" />
    </inertial>
    <visual>
      <origin
        xyz="0 0 0"
        rpy="0 0 0" />
      <geometry>
        <mesh
          filename="package://bullet_description/meshes/leg_5_foot_link.STL" />
      </geometry>
      <material
        name="">
        <color
          rgba="0.1 0.1 0.1 1" />
      </material>
    </visual>
    <collision>
      <origin
        xyz="0.015 0 0"
        rpy="0 0 0" />
      <geometry>
        <box size="0.05 0.035 0.032"/>
      </geometry>
    </collision>
  </link>
  <joint
    name="leg_5_foot_joint"
    type="continuous">
    <origin
      xyz="0.075 0 -0.000460000000000169"
      rpy="0 0 0" />
    <parent
      link="leg_5_arm_link" />
    <child
      link="leg_5_foot_link" />
    <axis
      xyz="0 0 1" />
  </joint>


  <link
    name="leg_5_absorber_link">
    <inertial>
      <origin
        xyz="0.073032 -0.00037142 -7.0825E-11"
        rpy="0 0 0" />
      <mass
        value="0.021493" />
      <inertia
        ixx="6.0216E-06"
        ixy="1.29E-07"
        ixz="-1.4999E-14"
        iyy="1.8907E-05"
        iyz="2.0114E-10"
        izz="1.5553E-05" />
    </inertial>
    <visual>
      <origin
        xyz="0 0 0"
        rpy="0 0 0" />
      <geometry>
        <mesh
          filename="package://bullet_description/meshes/leg_5_absorber_link.STL" />
      </geometry>
      <material
        name="">
        <color
          rgba="0.5 0.5 0.5 1" />
      </material>
    </visual>
    <collision>
      <origin
        xyz="0.068 0 0"
        rpy="0 0 0" />
      <geometry>
        <box size="0.1 0.028 0.04"/>
      </geometry>
    </collision>
  </link>
  <joint
    name="leg_5_absorber_joint"
    type="fixed">
    <origin
      xyz="0 0 0"
      rpy="0 0 0" />
    <parent
      link="leg_5_foot_link" />
    <child
      link="leg_5_absorber_link" />
    <axis
      xyz="0 0 0" />
  </joint>


  <link
    name="leg_5_antislipper_link">
    <inertial>
      <origin
        xyz="0.12452 -1.19E-15 2.64E-17"
        rpy="0 0 0" />
      <mass
        value="0.0022964" />
      <inertia
        ixx="6.8197E-08"
        ixy="-1.7401E-23"
        ixz="-5.5353E-24"
        iyy="7.2351E-08"
        iyz="-3.6795E-25"
        izz="7.2351E-08" />
    </inertial>
    <visual>
      <origin
        xyz="0 0 0"
        rpy="0 0 0" />
      <geometry>
        <mesh
          filename="package://bullet_description/meshes/leg_5_antislipper_link.STL" />
      </geometry>
      <material
        name="">
        <color
          rgba="0.1 0.1 0.1 1" />
      </material>
    </visual>
    <collision>
      <origin
        xyz="0.123 0 0"
        rpy="0 1.57 0" />
      <geometry>
        <cylinder length="0.015" radius="0.008"/>
      </geometry>
    </collision>
  </link>
  <joint
    name="leg_5_antislipper_joint"
    type="fixed">
    <origin
      xyz="0 0 0"
      rpy="0 0 0" />
    <parent
      link="leg_5_foot_link" />
    <child
      link="leg_5_antislipper_link" />
    <axis
      xyz="0 0 0" />
  </joint>


  <link
    name="leg_6_forearm_link">
    <inertial>
      <origin
        xyz="0.016572 1.34E-06 0.00053594"
        rpy="0 0 0" />
      <mass
        value="0.012358" />
      <inertia
        ixx="4.2811E-06"
        ixy="1.3384E-10"
        ixz="-2.6385E-07"
        iyy="5.1251E-06"
        iyz="-2.1851E-11"
        izz="2.7851E-06" />
    </inertial>
    <visual>
      <origin
        xyz="0 0 0"
        rpy="0 0 0" />
      <geometry>
        <mesh
          filename="package://bullet_description/meshes/leg_6_forearm_link.STL" />
      </geometry>
      <material
        name="">
        <color
          rgba="0.5 0.5 0.5 1" />
      </material>
    </visual>
 <!--   <collision>
      <origin
        xyz="0 0 0"
        rpy="0 0 0" />
      <geometry>
        <mesh
          filename="package://bullet_description/meshes/leg_6_forearm_link.STL" />
      </geometry>
    </collision> -->
  </link>
  <joint
    name="leg_6_forearm_joint"
    type="continuous">
    <origin
      xyz="0.11395 0.082754 0.016"
      rpy="3.945E-16 5.491E-16 0.7854" />
    <parent
      link="base_link" />
    <child
      link="leg_6_forearm_link" />
    <axis
      xyz="0 0 1" />
  </joint>


  <link
    name="leg_6_forearm_servo_link">
    <inertial>
      <origin
        xyz="0.054455 -0.00023549 -0.00073179"
        rpy="0 0 0" />
      <mass
        value="0.041843" />
      <inertia
        ixx="6.594E-06"
        ixy="2.8912E-07"
        ixz="-9.9361E-09"
        iyy="1.0198E-05"
        iyz="-4.4259E-09"
        izz="1.1982E-05" />
    </inertial>
    <visual>
      <origin
        xyz="0 0 0"
        rpy="0 0 0" />
      <geometry>
        <mesh
          filename="package://bullet_description/meshes/leg_6_forearm_servo_link.STL" />
      </geometry>
      <material
        name="">
        <color
          rgba="0.1 0.1 0.1 1" />
      </material>
    </visual>
    <collision>
      <origin
        xyz="0.05 0 0"
        rpy="0 0 0" />
      <geometry>
        <box size="0.05 0.035 0.032"/>
      </geometry>
    </collision>
  </link>
  <joint
    name="leg_6_forearm_servo_joint"
    type="fixed">
    <origin
      xyz="0 0 0"
      rpy="9.8608E-32 0 0" />
    <parent
      link="leg_6_forearm_link" />
    <child
      link="leg_6_forearm_servo_link" />
    <axis
      xyz="0 0 0" />
  </joint>


  <link
    name="leg_6_arm_link">
    <inertial>
      <origin
        xyz="0.0375 7.4367E-10 -0.00020126"
        rpy="0 0 0" />
      <mass
        value="0.034236" />
      <inertia
        ixx="1.7379E-05"
        ixy="3.5358E-08"
        ixz="-1.8477E-06"
        iyy="4.4351E-05"
        iyz="-7.3182E-16"
        izz="3.0276E-05" />
    </inertial>
    <visual>
      <origin
        xyz="0 0 0"
        rpy="0 0 0" />
      <geometry>
        <mesh
          filename="package://bullet_description/meshes/leg_6_arm_link.STL" />
      </geometry>
      <material
        name="">
        <color
          rgba="0.5 0.5 0.5 1" />
      </material>
    </visual>
    <collision>
      <origin
        xyz="0.038 0 0"
        rpy="0 0 0" />
      <geometry>
        <box size="0.1 0.025 0.048"/>
      </geometry>
    </collision>
  </link>
  <joint
    name="leg_6_arm_joint"
    type="continuous">
    <origin
      xyz="0.0675 0 -0.00076"
      rpy="1.5708 -5.7354E-14 -2.498E-15" />
    <parent
      link="leg_6_forearm_link" />
    <child
      link="leg_6_arm_link" />
    <axis
      xyz="0 0 1" />
  </joint>


  <link
    name="leg_6_foot_link">
    <inertial>
      <origin
        xyz="0.012976 2.8308E-05 -0.0002361"
        rpy="0 0 0" />
      <mass
        value="0.041698" />
      <inertia
        ixx="6.5644E-06"
        ixy="1.0018E-08"
        ixz="-2.8963E-07"
        iyy="1.191E-05"
        iyz="-4.4252E-09"
        izz="1.0124E-05" />
    </inertial>
    <visual>
      <origin
        xyz="0 0 0"
        rpy="0 0 0" />
      <geometry>
        <mesh
          filename="package://bullet_description/meshes/leg_6_foot_link.STL" />
      </geometry>
      <material
        name="">
        <color
          rgba="0.1 0.1 0.1 1" />
      </material>
    </visual>
    <collision>
      <origin
        xyz="0.015 0 0"
        rpy="0 0 0" />
      <geometry>
        <box size="0.05 0.035 0.032"/>
      </geometry>
    </collision>
  </link>
  <joint
    name="leg_6_foot_joint"
    type="continuous">
    <origin
      xyz="0.075 0 -0.00046"
      rpy="1.341E-16 4.4409E-15 -4.6909E-14" />
    <parent
      link="leg_6_arm_link" />
    <child
      link="leg_6_foot_link" />
    <axis
      xyz="0 0 1" />
  </joint>


  <link
    name="leg_6_absorber_link">
    <inertial>
      <origin
        xyz="0.073032 -0.00037142 -6.9611E-11"
        rpy="0 0 0" />
      <mass
        value="0.021493" />
      <inertia
        ixx="6.0216E-06"
        ixy="1.29E-07"
        ixz="-1.5004E-14"
        iyy="1.8907E-05"
        iyz="2.0114E-10"
        izz="1.5553E-05" />
    </inertial>
    <visual>
      <origin
        xyz="0 0 0"
        rpy="0 0 0" />
      <geometry>
        <mesh
          filename="package://bullet_description/meshes/leg_6_absorber_link.STL" />
      </geometry>
      <material
        name="">
        <color
          rgba="0.5 0.5 0.5 1" />
      </material>
    </visual>
    <collision>
      <origin
        xyz="0.068 0 0"
        rpy="0 0 0" />
      <geometry>
        <box size="0.1 0.028 0.04"/>
      </geometry>
    </collision>
  </link>
  <joint
    name="leg_6_absorber_joint"
    type="fixed">
    <origin
      xyz="0 0 0"
      rpy="7.88860905221012E-31 0 0" />
    <parent
      link="leg_6_foot_link" />
    <child
      link="leg_6_absorber_link" />
    <axis
      xyz="0 0 0" />
  </joint>


  <link
    name="leg_6_antislipper_link">
    <inertial>
      <origin
        xyz="0.12452 -2.4494E-15 4.4409E-16"
        rpy="0 0 0" />
      <mass
        value="0.0022964" />
      <inertia
        ixx="6.8197E-08"
        ixy="-5.8449E-23"
        ixz="3.6396E-23"
        iyy="7.2351E-08"
        iyz="2.9262E-24"
        izz="7.2351E-08" />
    </inertial>
    <visual>
      <origin
        xyz="0 0 0"
        rpy="0 0 0" />
      <geometry>
        <mesh
          filename="package://bullet_description/meshes/leg_6_antislipper_link.STL" />
      </geometry>
      <material
        name="">
        <color
          rgba="0.1 0.1 0.1 1" />
      </material>
    </visual>
    <collision>
      <origin
        xyz="0.123 0 0"
        rpy="0 1.57 0" />
      <geometry>
        <cylinder length="0.015" radius="0.008"/>
      </geometry>
    </collision>
  </link>
  <joint
    name="leg_6_antislipper_joint"
    type="fixed">
    <origin
      xyz="0 0 0"
      rpy="7.88860905221012E-31 0 0" />
    <parent
      link="leg_6_foot_link" />
    <child
      link="leg_6_antislipper_link" />
    <axis
      xyz="0 0 0" />
  </joint>

  <!-- Transmission elements for Gazebo ROS Control plugin -->

  <!-- LEG 1 -->
  <transmission name="leg_1_forearm_tran">
    <type>transmission_interface/SimpleTransmission</type>
    <joint name="leg_1_forearm_joint">
      <hardwareInterface>EffortJointInterface</hardwareInterface>
    </joint>
    <actuator name="leg_1_forearm_motor">
      <hardwareInterface>EffortJointInterface</hardwareInterface>
      <mechanicalReduction>1</mechanicalReduction>
    </actuator>

  </transmission>
  <transmission name="leg_1_arm_tran">
    <type>transmission_interface/SimpleTransmission</type>
    <joint name="leg_1_arm_joint">
      <hardwareInterface>EffortJointInterface</hardwareInterface>
    </joint>
    <actuator name="leg_1_earm_motor">
      <hardwareInterface>EffortJointInterface</hardwareInterface>
      <mechanicalReduction>1</mechanicalReduction>
    </actuator>
  </transmission>

  <transmission name="leg_1_foot_tran">
    <type>transmission_interface/SimpleTransmission</type>
    <joint name="leg_1_foot_joint">
      <hardwareInterface>EffortJointInterface</hardwareInterface>
    </joint>
    <actuator name="leg_1_foot_motor">
      <hardwareInterface>EffortJointInterface</hardwareInterface>
      <mechanicalReduction>1</mechanicalReduction>
    </actuator>
  </transmission>

  <!-- LEG 2 -->
  <transmission name="leg_2_forearm_tran">
    <type>transmission_interface/SimpleTransmission</type>
    <joint name="leg_2_forearm_joint">
      <hardwareInterface>EffortJointInterface</hardwareInterface>
    </joint>
    <actuator name="leg_2_forearm_motor">
      <hardwareInterface>EffortJointInterface</hardwareInterface>
      <mechanicalReduction>1</mechanicalReduction>
    </actuator>

  </transmission>
  <transmission name="leg_2_arm_tran">
    <type>transmission_interface/SimpleTransmission</type>
    <joint name="leg_2_arm_joint">
      <hardwareInterface>EffortJointInterface</hardwareInterface>
    </joint>
    <actuator name="leg_2_earm_motor">
      <hardwareInterface>EffortJointInterface</hardwareInterface>
      <mechanicalReduction>1</mechanicalReduction>
    </actuator>
  </transmission>

  <transmission name="leg_2_foot_tran">
    <type>transmission_interface/SimpleTransmission</type>
    <joint name="leg_2_foot_joint">
      <hardwareInterface>EffortJointInterface</hardwareInterface>
    </joint>
    <actuator name="leg_2_foot_motor">
      <hardwareInterface>EffortJointInterface</hardwareInterface>
      <mechanicalReduction>1</mechanicalReduction>
    </actuator>
  </transmission>

  <!-- LEG 3 -->
  <transmission name="leg_3_forearm_tran">
    <type>transmission_interface/SimpleTransmission</type>
    <joint name="leg_3_forearm_joint">
      <hardwareInterface>EffortJointInterface</hardwareInterface>
    </joint>
    <actuator name="leg_3_forearm_motor">
      <hardwareInterface>EffortJointInterface</hardwareInterface>
      <mechanicalReduction>1</mechanicalReduction>
    </actuator>

  </transmission>
  <transmission name="leg_3_arm_tran">
    <type>transmission_interface/SimpleTransmission</type>
    <joint name="leg_3_arm_joint">
      <hardwareInterface>EffortJointInterface</hardwareInterface>
    </joint>
    <actuator name="leg_3_earm_motor">
      <hardwareInterface>EffortJointInterface</hardwareInterface>
      <mechanicalReduction>1</mechanicalReduction>
    </actuator>
  </transmission>

  <transmission name="leg_3_foot_tran">
    <type>transmission_interface/SimpleTransmission</type>
    <joint name="leg_3_foot_joint">
      <hardwareInterface>EffortJointInterface</hardwareInterface>
    </joint>
    <actuator name="leg_3_foot_motor">
      <hardwareInterface>EffortJointInterface</hardwareInterface>
      <mechanicalReduction>1</mechanicalReduction>
    </actuator>
  </transmission>

  <!-- LEG 4 -->
  <transmission name="leg_4_forearm_tran">
    <type>transmission_interface/SimpleTransmission</type>
    <joint name="leg_4_forearm_joint">
      <hardwareInterface>EffortJointInterface</hardwareInterface>
    </joint>
    <actuator name="leg_4_forearm_motor">
      <hardwareInterface>EffortJointInterface</hardwareInterface>
      <mechanicalReduction>1</mechanicalReduction>
    </actuator>

  </transmission>
  <transmission name="leg_4_arm_tran">
    <type>transmission_interface/SimpleTransmission</type>
    <joint name="leg_4_arm_joint">
      <hardwareInterface>EffortJointInterface</hardwareInterface>
    </joint>
    <actuator name="leg_4_earm_motor">
      <hardwareInterface>EffortJointInterface</hardwareInterface>
      <mechanicalReduction>1</mechanicalReduction>
    </actuator>
  </transmission>

  <transmission name="leg_4_foot_tran">
    <type>transmission_interface/SimpleTransmission</type>
    <joint name="leg_4_foot_joint">
      <hardwareInterface>EffortJointInterface</hardwareInterface>
    </joint>
    <actuator name="leg_4_foot_motor">
      <hardwareInterface>EffortJointInterface</hardwareInterface>
      <mechanicalReduction>1</mechanicalReduction>
    </actuator>
  </transmission>


    <!-- LEG 5 -->
    <transmission name="leg_5_forearm_tran">
      <type>transmission_interface/SimpleTransmission</type>
      <joint name="leg_5_forearm_joint">
        <hardwareInterface>EffortJointInterface</hardwareInterface>
      </joint>
      <actuator name="leg_5_forearm_motor">
        <hardwareInterface>EffortJointInterface</hardwareInterface>
        <mechanicalReduction>1</mechanicalReduction>
      </actuator>

    </transmission>
    <transmission name="leg_5_arm_tran">
      <type>transmission_interface/SimpleTransmission</type>
      <joint name="leg_5_arm_joint">
        <hardwareInterface>EffortJointInterface</hardwareInterface>
      </joint>
      <actuator name="leg_5_earm_motor">
        <hardwareInterface>EffortJointInterface</hardwareInterface>
        <mechanicalReduction>1</mechanicalReduction>
      </actuator>
    </transmission>

    <transmission name="leg_5_foot_tran">
      <type>transmission_interface/SimpleTransmission</type>
      <joint name="leg_5_foot_joint">
        <hardwareInterface>EffortJointInterface</hardwareInterface>
      </joint>
      <actuator name="leg_5_foot_motor">
        <hardwareInterface>EffortJointInterface</hardwareInterface>
        <mechanicalReduction>1</mechanicalReduction>
      </actuator>
    </transmission>


      <!-- LEG 6 -->
      <transmission name="leg_6_forearm_tran">
        <type>transmission_interface/SimpleTransmission</type>
        <joint name="leg_6_forearm_joint">
          <hardwareInterface>EffortJointInterface</hardwareInterface>
        </joint>
        <actuator name="leg_6_forearm_motor">
          <hardwareInterface>EffortJointInterface</hardwareInterface>
          <mechanicalReduction>1</mechanicalReduction>
        </actuator>

      </transmission>
      <transmission name="leg_6_arm_tran">
        <type>transmission_interface/SimpleTransmission</type>
        <joint name="leg_6_arm_joint">
          <hardwareInterface>EffortJointInterface</hardwareInterface>
        </joint>
        <actuator name="leg_6_earm_motor">
          <hardwareInterface>EffortJointInterface</hardwareInterface>
          <mechanicalReduction>1</mechanicalReduction>
        </actuator>
      </transmission>

      <transmission name="leg_6_foot_tran">
        <type>transmission_interface/SimpleTransmission</type>
        <joint name="leg_6_foot_joint">
          <hardwareInterface>EffortJointInterface</hardwareInterface>
        </joint>
        <actuator name="leg_6_foot_motor">
          <hardwareInterface>EffortJointInterface</hardwareInterface>
          <mechanicalReduction>1</mechanicalReduction>
        </actuator>
      </transmission>

</robot>
